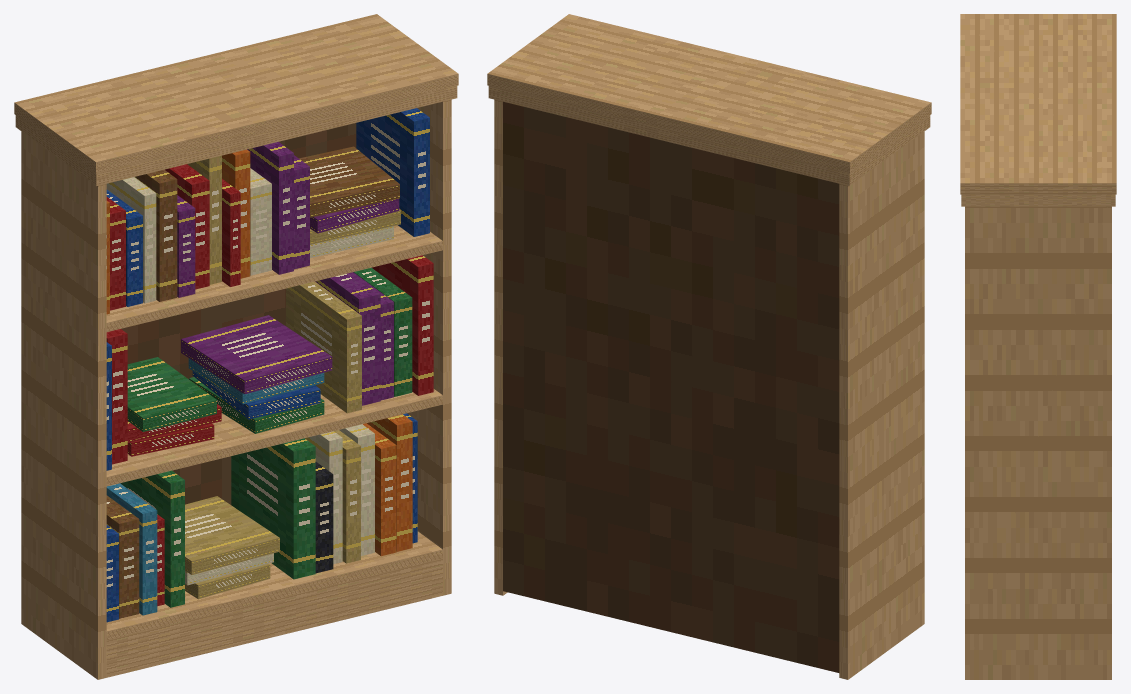
The model's file is Bookcase_Short_Normal.fbx.
The picture shows the model from 3 angles, left to right: view 1: azimuth 30°, elevation 25°; view 2: azimuth 150°, elevation 25°; view 3: azimuth 270°, elevation 25°; orthographic projection. The views are drawn at different scales.
Parts seen in each view (by area): view 1: Bookcase_Short.001; view 2: Bookcase_Short.001; view 3: Bookcase_Short.001.
Boxes of the visible parts, x1=… form: Bookcase_Short.001: x1=14, y1=14, x2=458, y2=679; Bookcase_Short.001: x1=487, y1=14, x2=931, y2=679; Bookcase_Short.001: x1=960, y1=14, x2=1116, y2=679.
Bounding box in the file's own units: 82 × 113 × 32.
